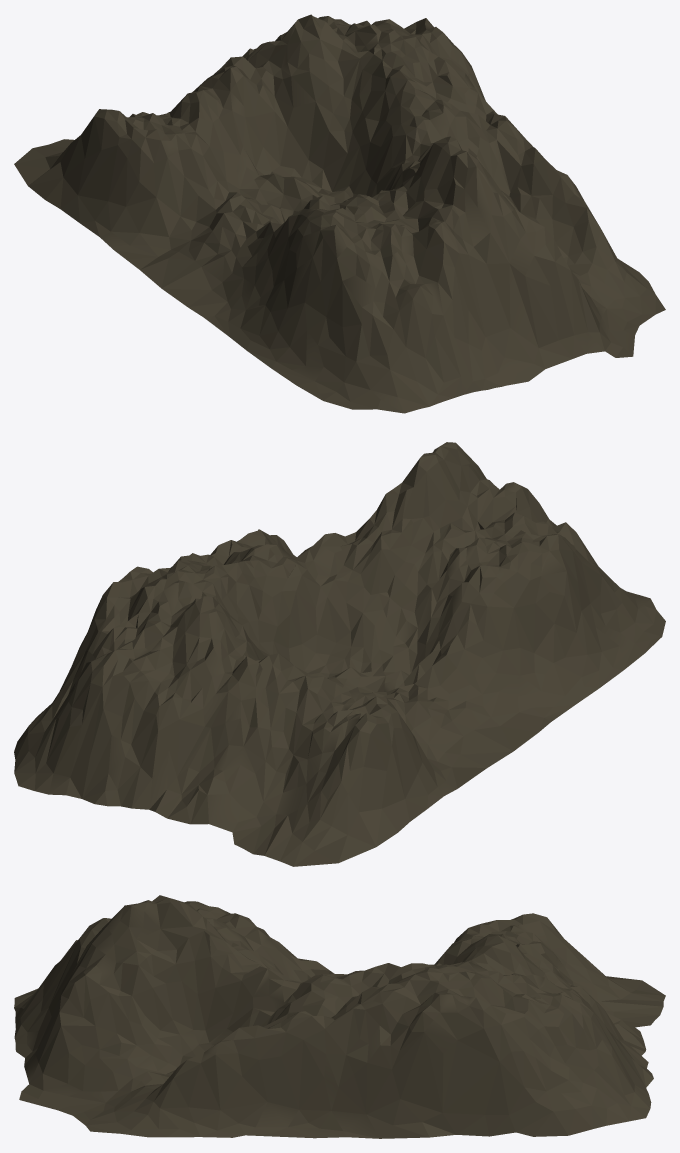
File: mountain_right.dae
3 renders of one model, top to bottom at view 1: azimuth 30°, elevation 25°; view 2: azimuth 150°, elevation 25°; view 3: azimuth 270°, elevation 25°, orthographic. The views are drawn at different scales.
Visible parts, largest first — view 1: Mounting_2; view 2: Mounting_2; view 3: Mounting_2.
Boxes of the visible parts, bbox=[...] form: Mounting_2: bbox=[14, 14, 665, 413]; Mounting_2: bbox=[14, 442, 665, 866]; Mounting_2: bbox=[14, 895, 665, 1138].
Bounding box in the file's own units: 19.7 × 32.65 × 8.81.
1 material, 1 textured.
